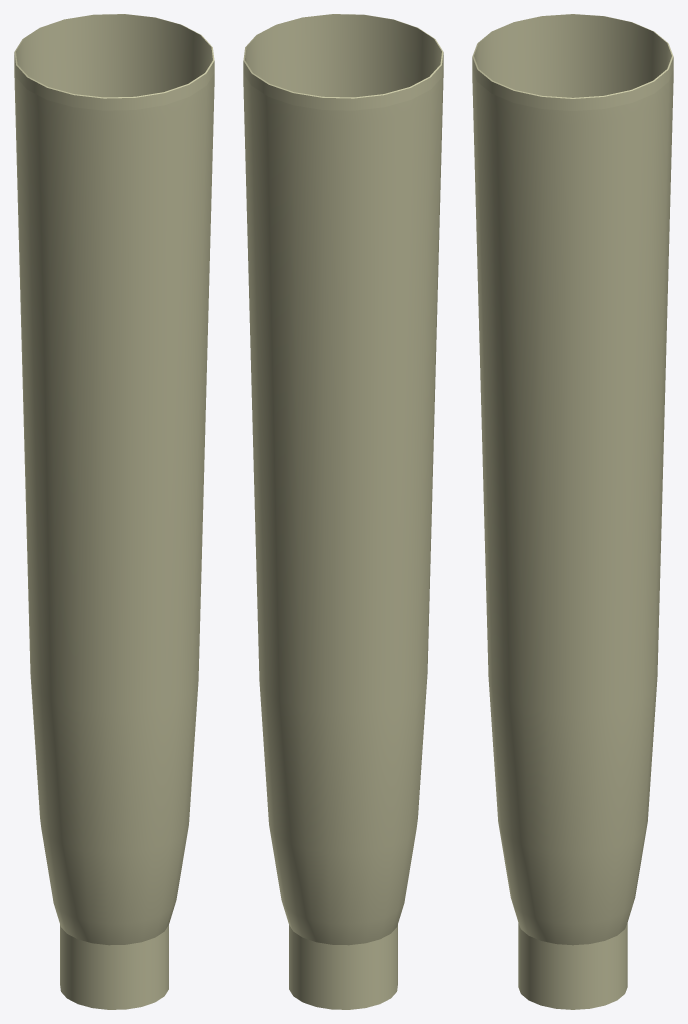
Rendered from bowl.fbx.
3 renders of one model, left to right at view 1: azimuth 30°, elevation 25°; view 2: azimuth 150°, elevation 25°; view 3: azimuth 270°, elevation 25°, orthographic.
Visible parts, largest first — view 1: bowl; view 2: bowl; view 3: bowl.
Part boxes in pixels (box(x1,y1,x2,y2)): bowl: box(14, 14, 214, 1009); bowl: box(243, 14, 443, 1009); bowl: box(472, 14, 673, 1009).
Bounding box in the file's own units: 1288 × 6564 × 1288.
